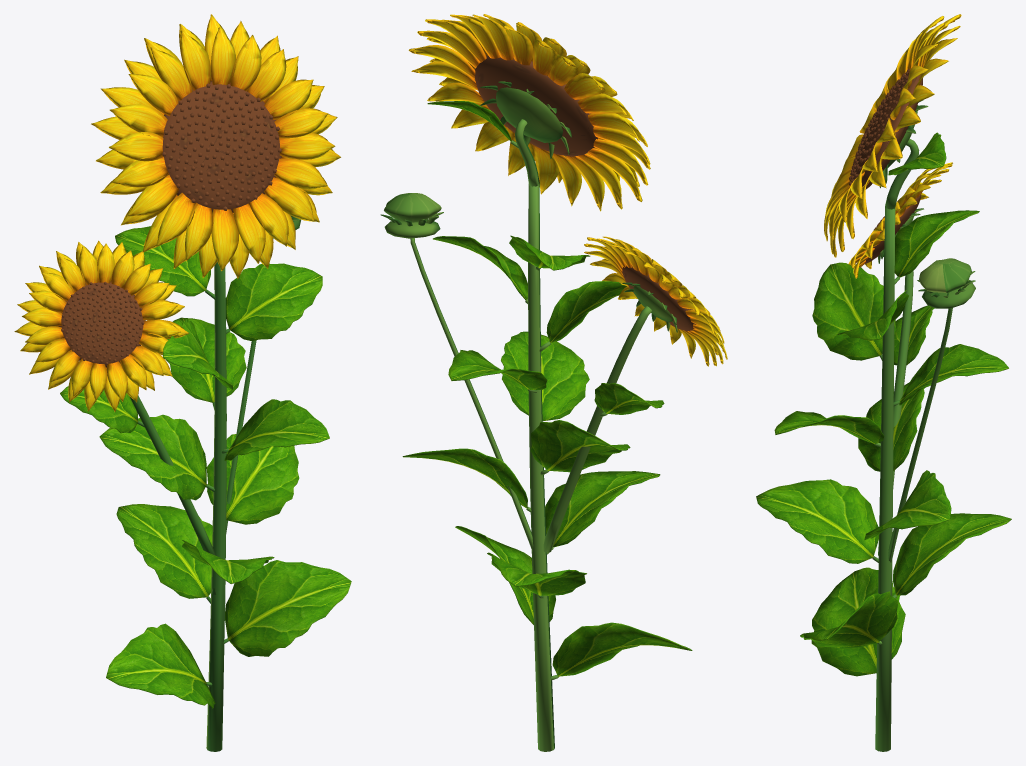
File: NP_Sunflower_Ready.fbx
3 views of the same model, side by side, from view 1: azimuth 30°, elevation 25°; view 2: azimuth 150°, elevation 25°; view 3: azimuth 270°, elevation 25° (orthographic). The views are drawn at different scales.
Visible parts, largest first — view 1: NP_Sunflower_Ready; view 2: NP_Sunflower_Ready; view 3: NP_Sunflower_Ready.
Boxes of the visible parts, bbox=[...] form: NP_Sunflower_Ready: bbox=[14, 14, 351, 751]; NP_Sunflower_Ready: bbox=[380, 14, 727, 751]; NP_Sunflower_Ready: bbox=[756, 14, 1011, 751].
Size of the model in its own units: 61.4 by 136 by 43.39.
